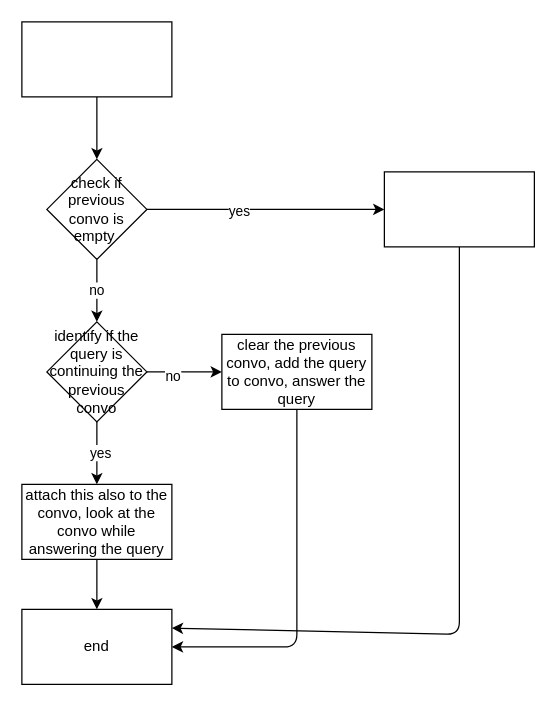
Image size: 556x706. Some labels were removed from this diagram. The shapes that lost their labels are listed below. From the top down, each one's centre as x and y in pixels, then its label:
the point at 96,59: answer new query
the point at 458,209: add this to convo, answe the query
